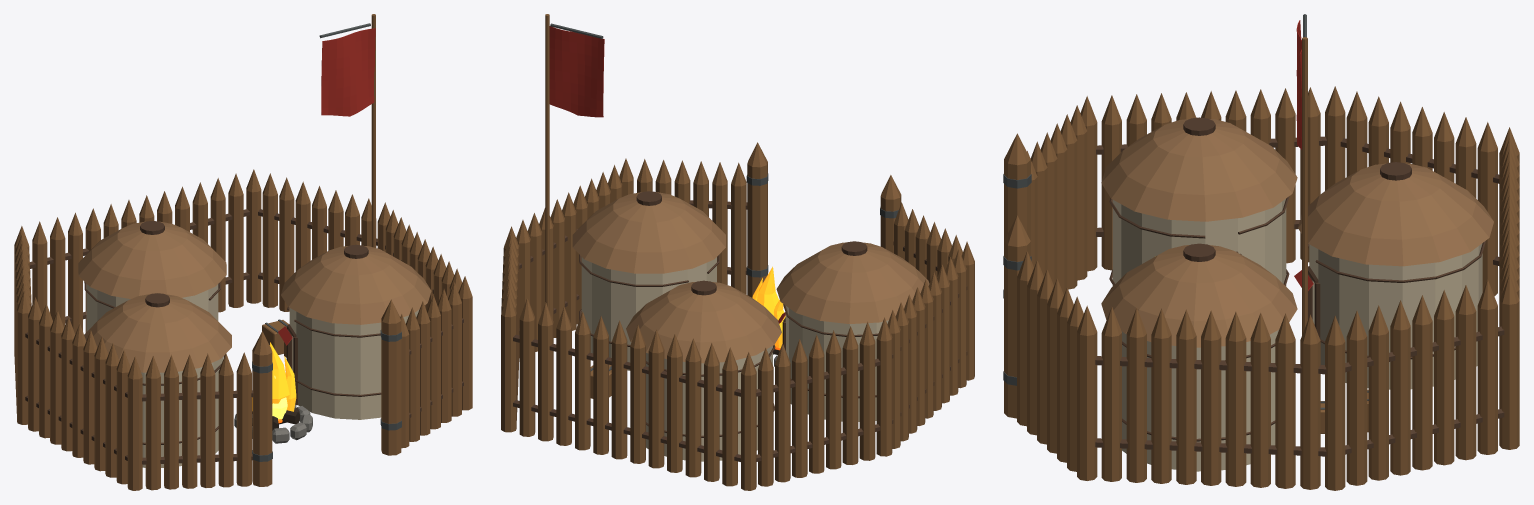
File: village.glb
The picture shows the model from 3 angles, left to right: view 1: azimuth 30°, elevation 25°; view 2: azimuth 150°, elevation 25°; view 3: azimuth 270°, elevation 25°; orthographic projection. The views are drawn at different scales.
Parts seen in each view (by area): view 1: Weathered oak, Sun faded hide roofing, Yurt felt, VillageBanner, Dark timber frame, Blackened iron, Fire ring stone, Campfire flame; view 2: Weathered oak, Sun faded hide roofing, Yurt felt, Dark timber frame, VillageBanner, Blackened iron, Campfire flame; view 3: Weathered oak, Sun faded hide roofing, Yurt felt, Dark timber frame, Blackened iron, VillageBanner.
Part boxes in pixels (bbox=[...]): Weathered oak: bbox=[14, 14, 472, 490]; Sun faded hide roofing: bbox=[78, 221, 431, 372]; Yurt felt: bbox=[86, 284, 419, 467]; VillageBanner: bbox=[321, 28, 375, 116]; Dark timber frame: bbox=[25, 209, 463, 464]; Blackened iron: bbox=[252, 23, 401, 461]; Fire ring stone: bbox=[234, 405, 312, 443]; Campfire flame: bbox=[269, 342, 289, 403]; Weathered oak: bbox=[501, 14, 974, 490]; Sun faded hide roofing: bbox=[572, 192, 929, 363]; Yurt felt: bbox=[581, 257, 888, 461]; Dark timber frame: bbox=[513, 191, 967, 461]; VillageBanner: bbox=[549, 26, 604, 117]; Blackened iron: bbox=[550, 23, 898, 371]; Campfire flame: bbox=[757, 266, 784, 315]; Weathered oak: bbox=[1004, 37, 1519, 490]; Sun faded hide roofing: bbox=[1101, 119, 1493, 347]; Yurt felt: bbox=[1112, 199, 1482, 471]; Dark timber frame: bbox=[1095, 117, 1504, 456]; Blackened iron: bbox=[1003, 14, 1368, 409]; VillageBanner: bbox=[1296, 20, 1301, 149].
Bounding box in the file's own units: 1.55 × 1.32 × 1.42.
